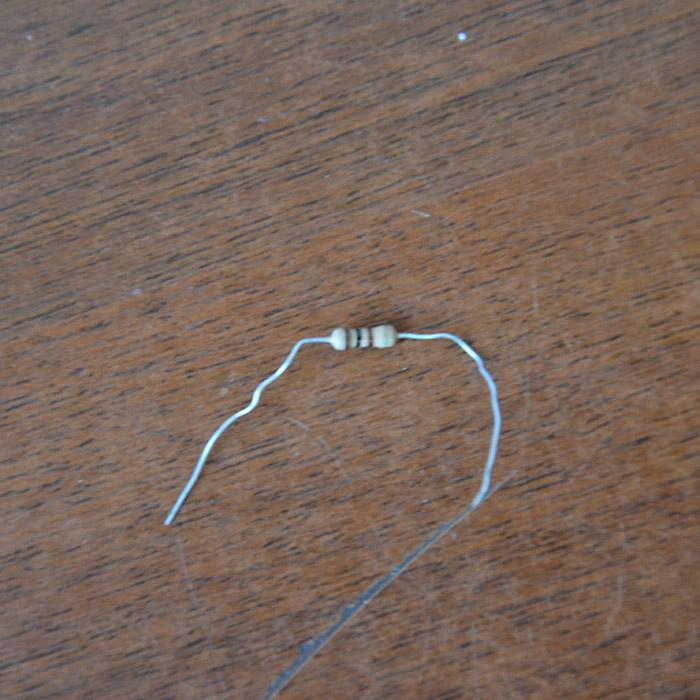resistor: (331, 323, 398, 350)
